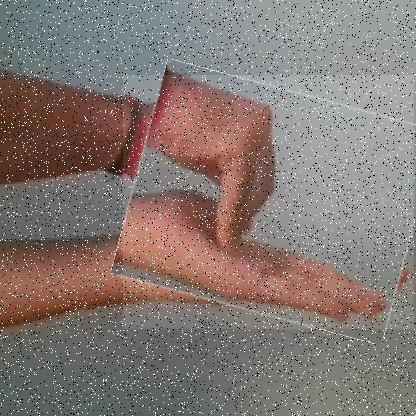Z: (123, 75, 415, 330)
